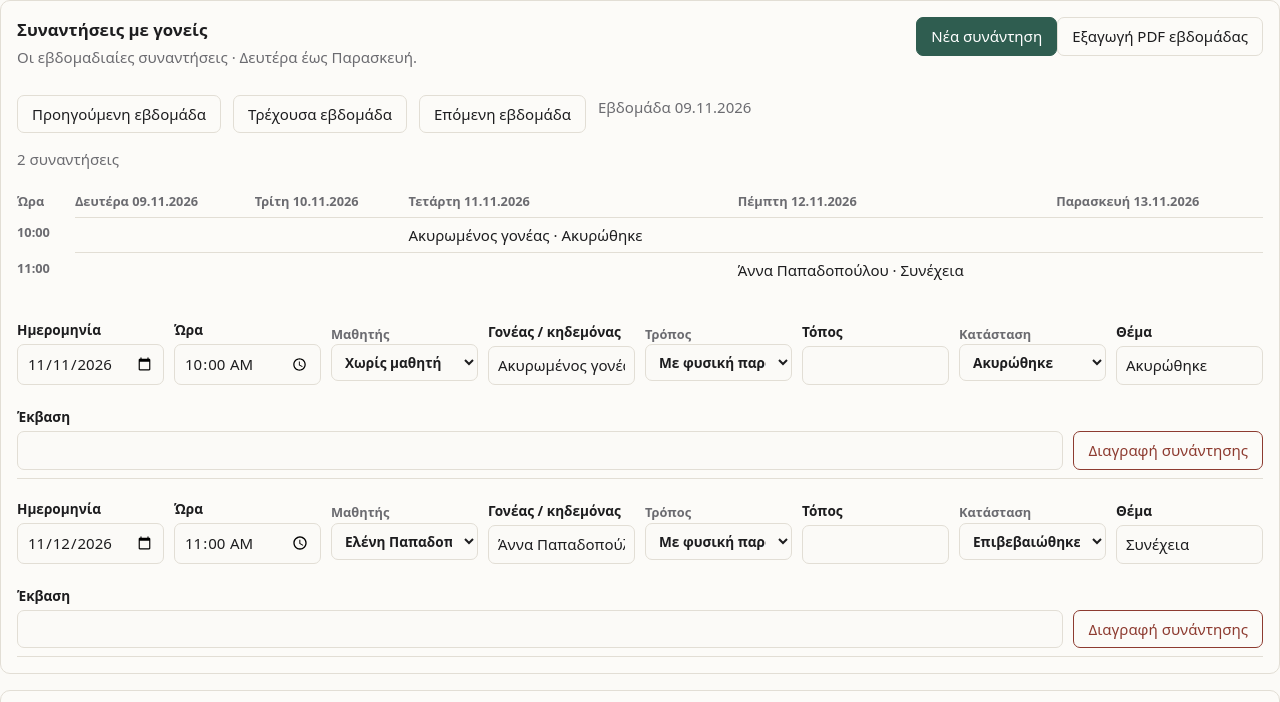
Test: the parent-appointment grid › puts two bookings at the same time on two different days in one row
This screenshot has width=1280, height=702.
Click the button "Προηγούμενη εβδομάδα".
click(119, 114)  # box [17, 95, 221, 133]
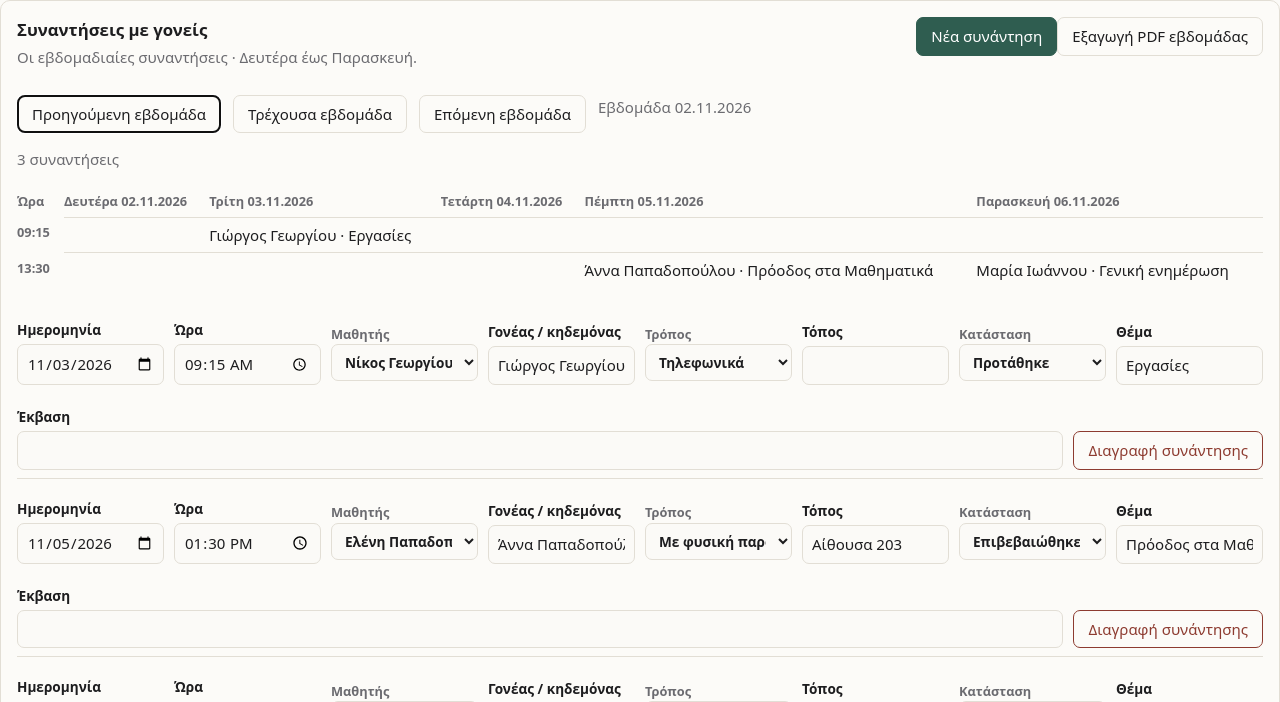
Now the column heading "13:30" is shown, box [17, 253, 64, 288]
Now the text "Άννα Παπαδοπούλου · Πρόοδος στα Μαθηματικά" is shown, box [584, 260, 933, 280]
Now the text "Μαρία Ιωάννου · Γενική ενημέρωση" is shown, box [976, 260, 1229, 280]
